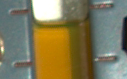border: (87, 2, 116, 11), (90, 55, 120, 63), (11, 60, 36, 69), (7, 8, 34, 16)
liquidlevel: (32, 16, 91, 34)
